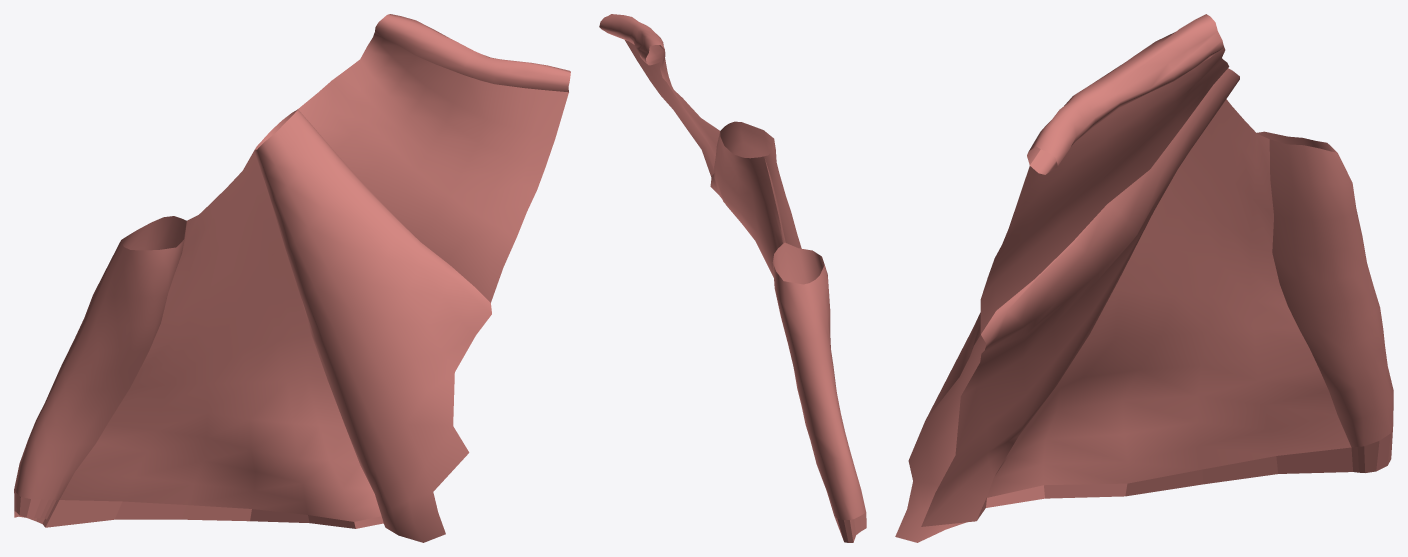
3 views of the same model, side by side, from view 1: azimuth 30°, elevation 25°; view 2: azimuth 150°, elevation 25°; view 3: azimuth 270°, elevation 25° (orthographic). The views are drawn at different scales.
Parts seen in each view (by area): view 1: ZA_99c5e4b75c1ed52d; view 2: ZA_99c5e4b75c1ed52d; view 3: ZA_99c5e4b75c1ed52d.
Part boxes in pixels (bbox=[...]): ZA_99c5e4b75c1ed52d: bbox=[14, 14, 570, 542]; ZA_99c5e4b75c1ed52d: bbox=[599, 14, 866, 542]; ZA_99c5e4b75c1ed52d: bbox=[895, 14, 1393, 542].
Size of the model in its own units: 0.1514 by 0.1598 by 0.1123.
